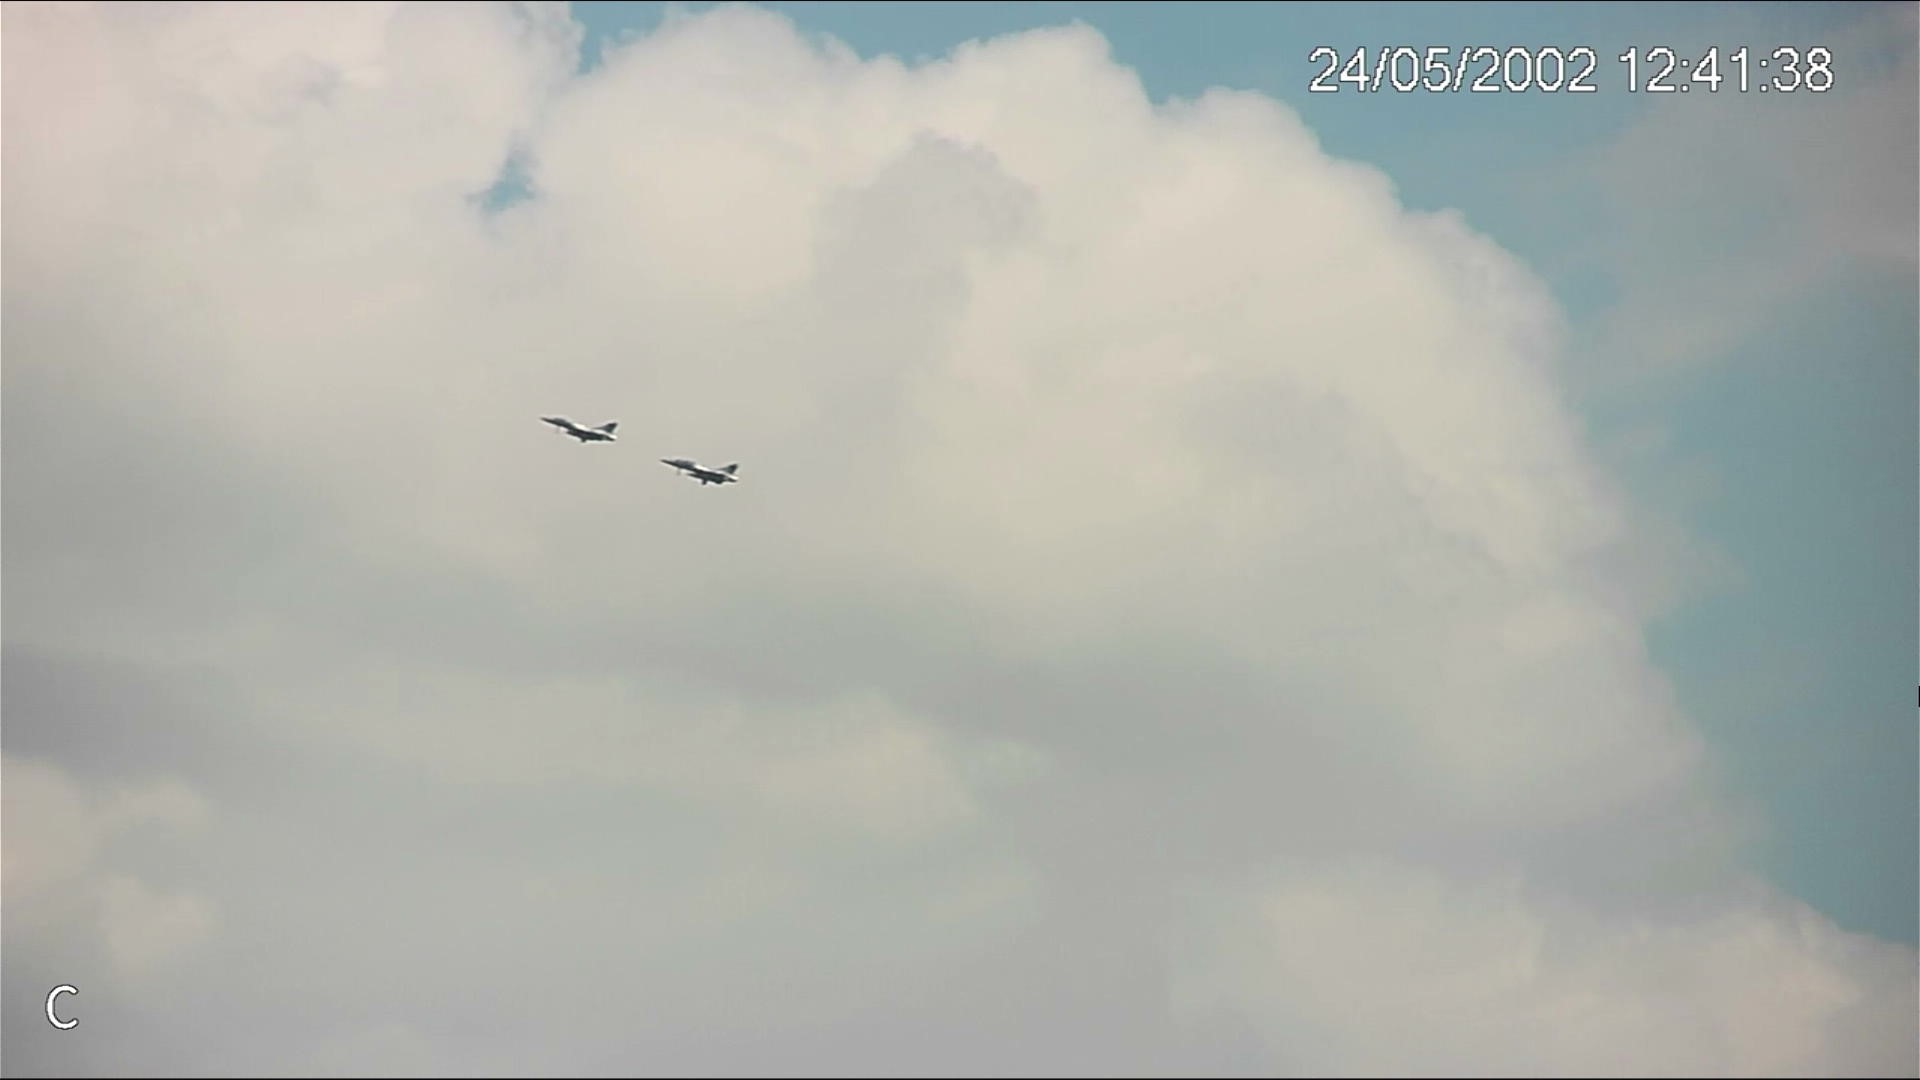SU_30: (658, 456, 742, 487), (539, 415, 622, 446)
